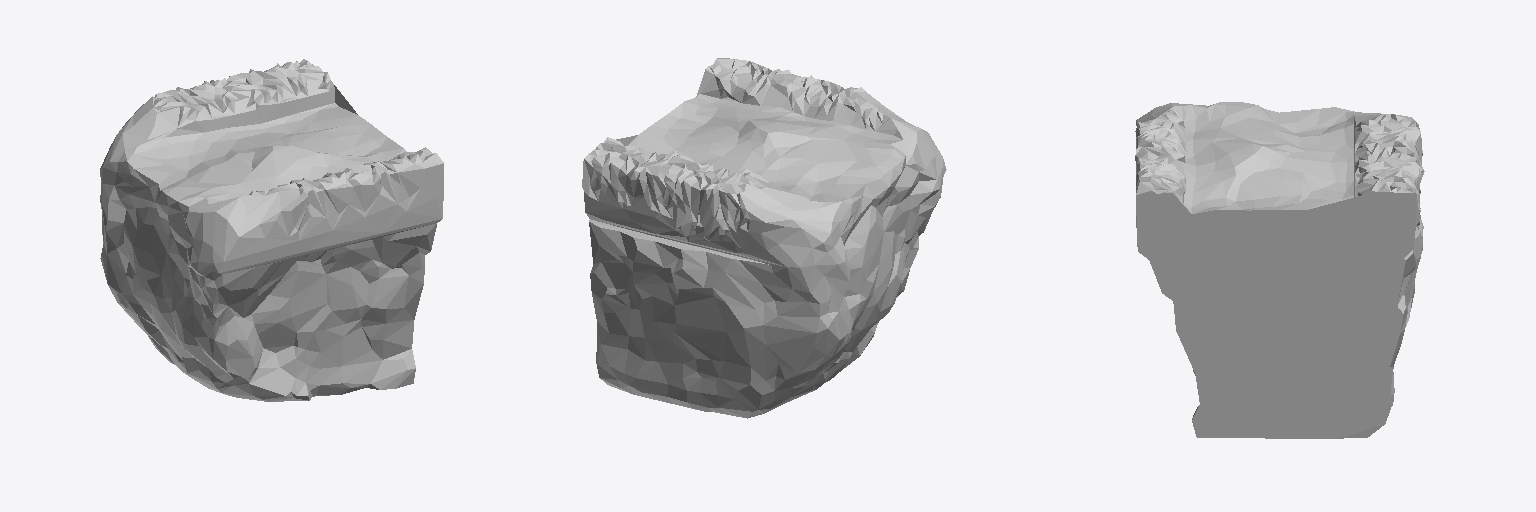
Rendered from base_esquina_D_low_uv2.obj.
3 views of the same model, side by side, from view 1: azimuth 30°, elevation 25°; view 2: azimuth 150°, elevation 25°; view 3: azimuth 270°, elevation 25° (orthographic).
Parts seen in each view (by area): view 1: base_esquina_D_low2:Group61401; view 2: base_esquina_D_low2:Group61401; view 3: base_esquina_D_low2:Group61401.
Part boxes in pixels (bbox=[...]): base_esquina_D_low2:Group61401: bbox=[100, 59, 443, 401]; base_esquina_D_low2:Group61401: bbox=[582, 58, 946, 418]; base_esquina_D_low2:Group61401: bbox=[1135, 102, 1424, 438].
Bounding box in the file's own units: 48.02 × 49.81 × 51.82.